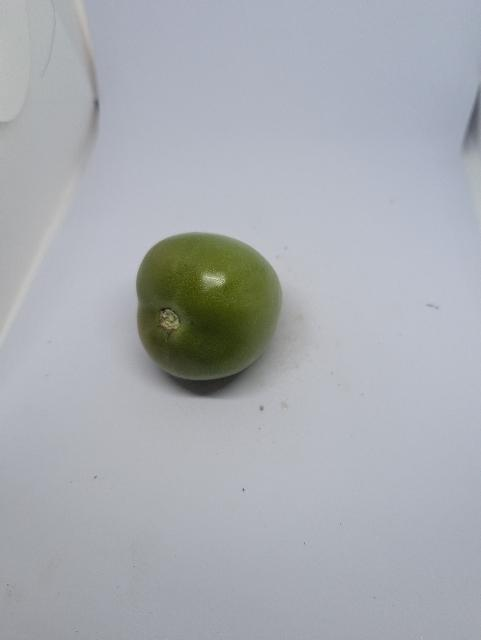green: (132, 229, 285, 385)
